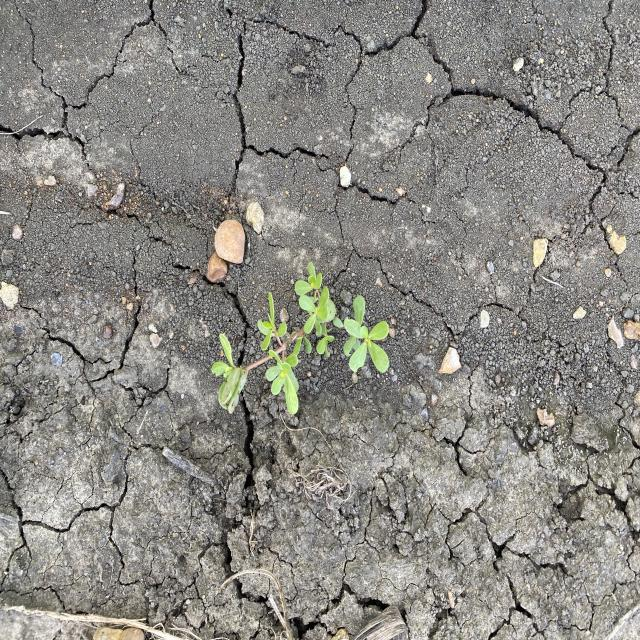Purslane: (210, 261, 393, 418)
